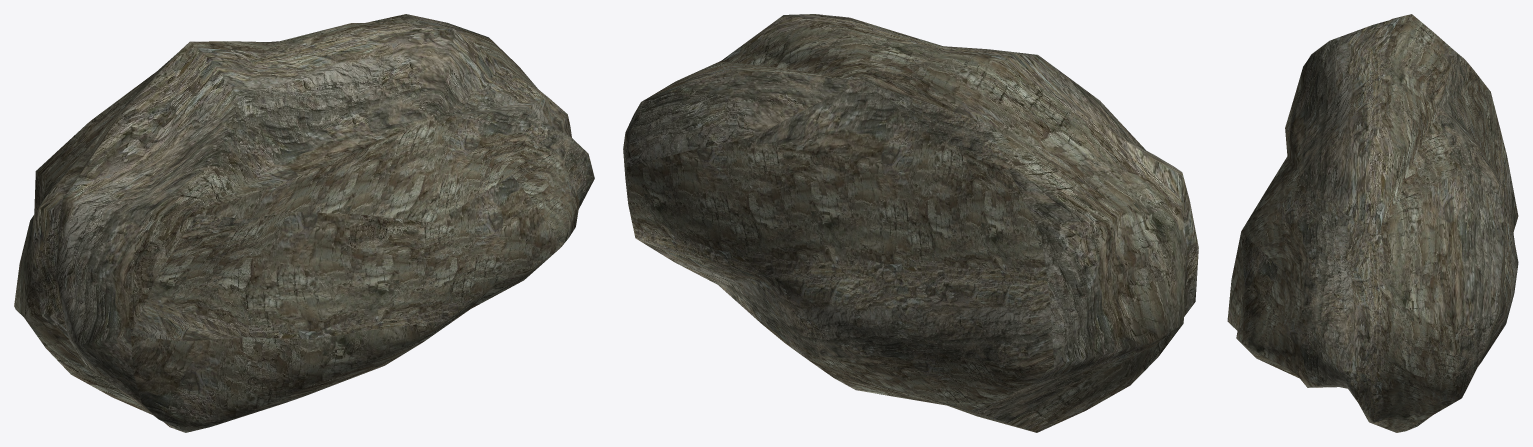
The model's file is duhoc_rock_c.glb.
The picture shows the model from 3 angles, left to right: view 1: azimuth 30°, elevation 25°; view 2: azimuth 150°, elevation 25°; view 3: azimuth 270°, elevation 25°; orthographic projection. The views are drawn at different scales.
Size of the model in its own units: 20.88 by 13.44 by 10.24.
Materials: 1 (1 with a texture image).
